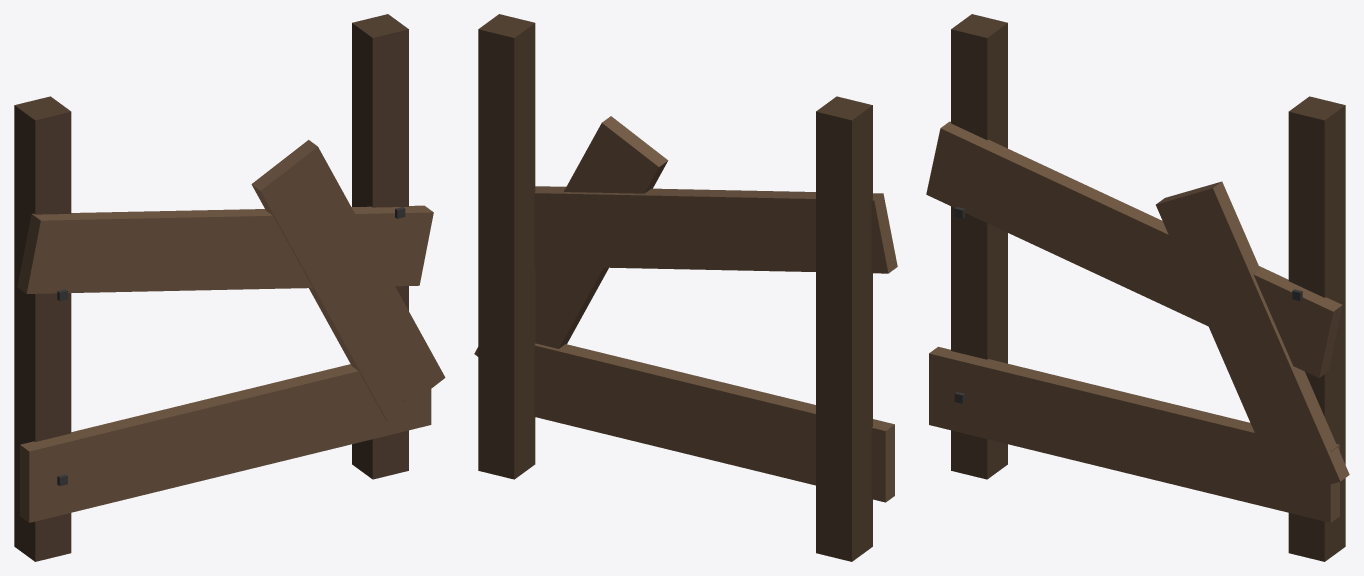
The model's file is prop_barricade_planks_1.glb.
3 renders of one model, left to right at view 1: azimuth 30°, elevation 25°; view 2: azimuth 150°, elevation 25°; view 3: azimuth 330°, elevation 25°, orthographic.
Visible parts, largest first — view 1: prop_barricade_planks_1; view 2: prop_barricade_planks_1; view 3: prop_barricade_planks_1.
Boxes of the visible parts, x1,y1,x2,y2 form: prop_barricade_planks_1: (14,14,445,561); prop_barricade_planks_1: (474,14,897,561); prop_barricade_planks_1: (926,14,1349,561).
Size of the model in its own units: 1.04 by 1.05 by 0.135.
